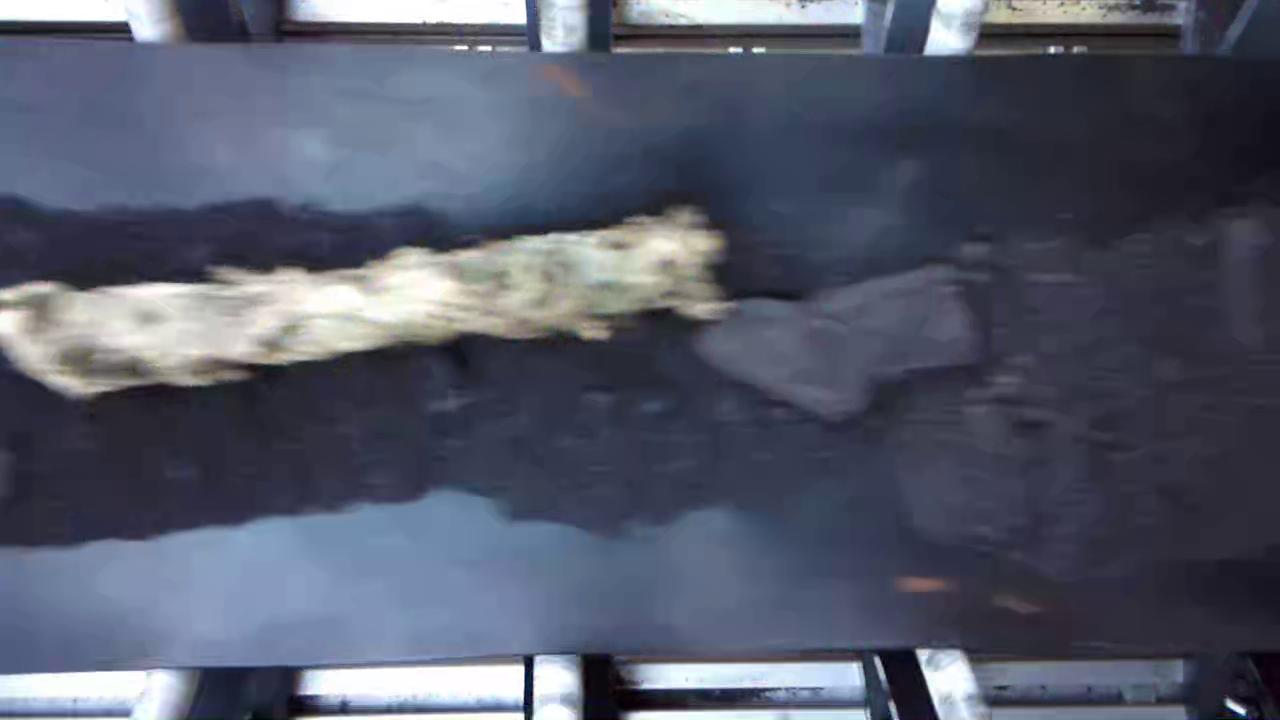conveyor: (0, 57, 1280, 645)
